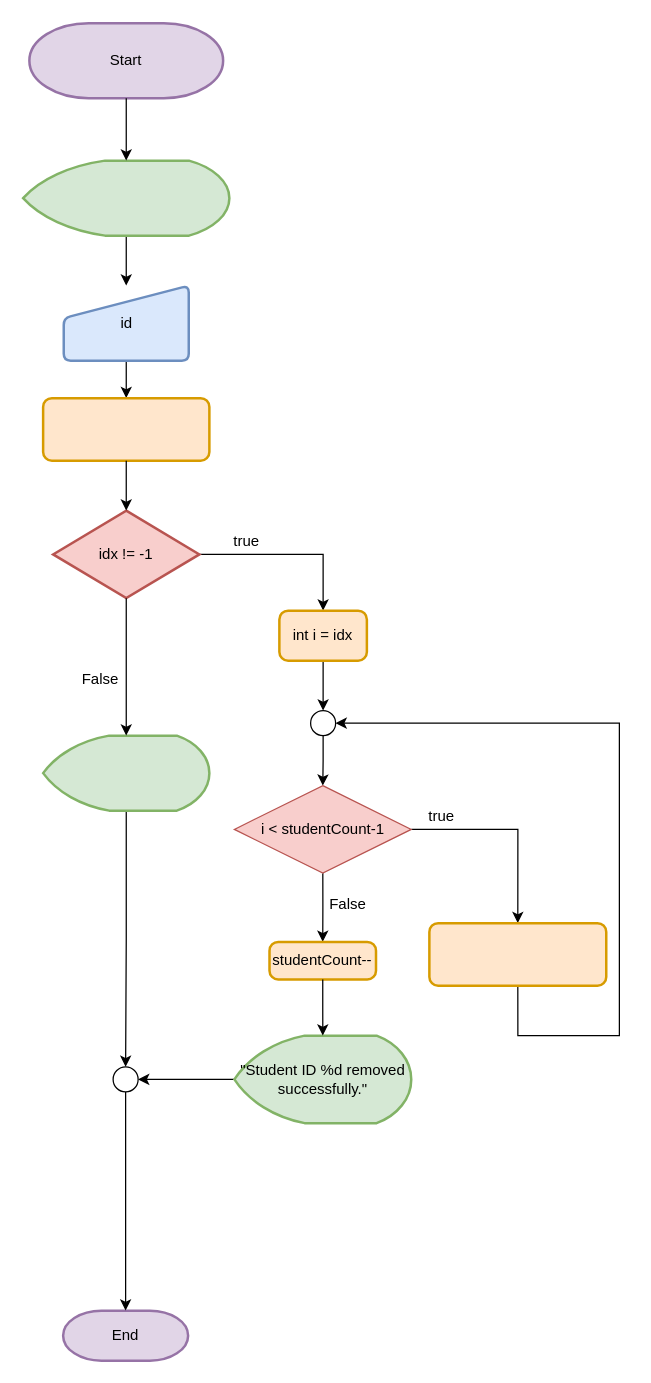
Some shapes in this 651 by 1383 pixel diagram are drawn without their labels. The centre of each missing label's shape, as x and y in pixels:
"Enter Student ID to remove :": point (125, 197)
"Student ID %d not found.": point (125, 772)
idx = findStudent(&id): point (125, 428)
students[i] = students[i+1]: point (517, 953)
